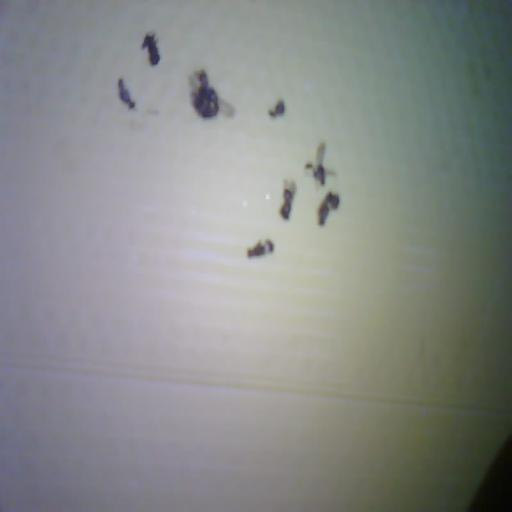Insects: (189, 70, 235, 118), (306, 143, 335, 185), (318, 192, 339, 225), (280, 181, 296, 219), (142, 33, 159, 65), (118, 78, 135, 109), (248, 239, 273, 257), (269, 100, 284, 117)
